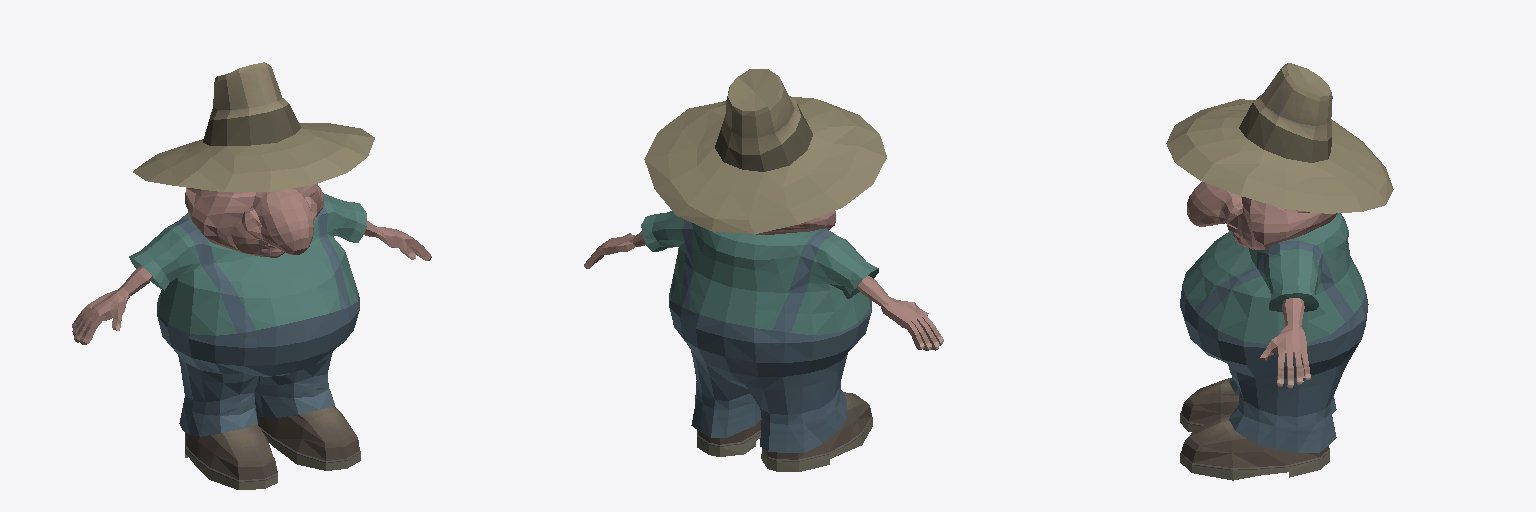
3 views of the same model, side by side, from view 1: azimuth 30°, elevation 25°; view 2: azimuth 150°, elevation 25°; view 3: azimuth 270°, elevation 25° (orthographic).
Visible parts, largest first — view 1: 0001_mesh_0.002; view 2: 0001_mesh_0.002; view 3: 0001_mesh_0.002.
Boxes of the visible parts, x1,y1,x2,y2 form: 0001_mesh_0.002: [72, 62, 431, 489]; 0001_mesh_0.002: [584, 69, 943, 471]; 0001_mesh_0.002: [1166, 63, 1393, 480].
Size of the model in its own units: 1.42 by 1.46 by 0.7948.
Materials: 1 (1 with a texture image).